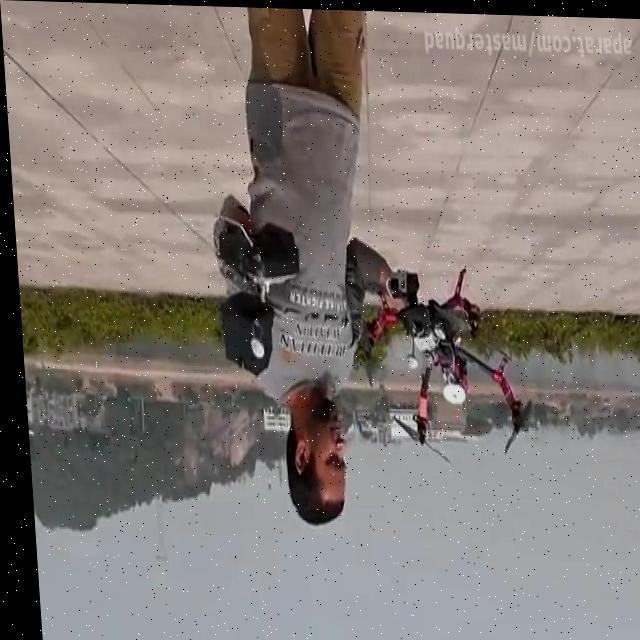drone: (348, 260, 533, 467)
